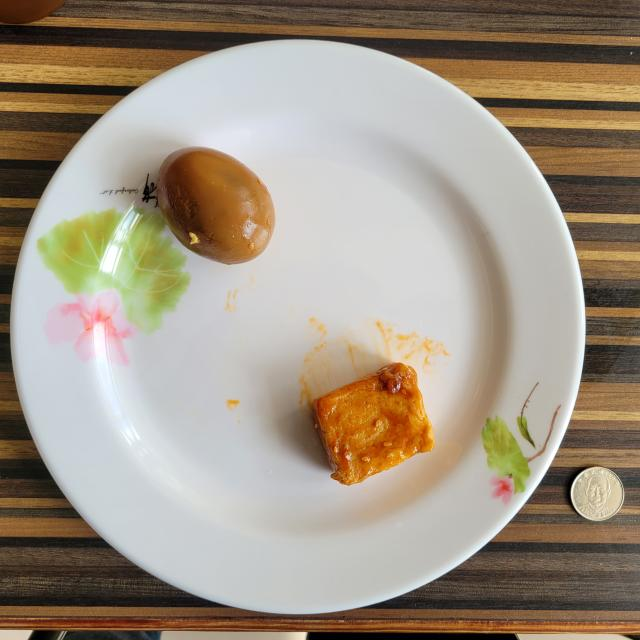coin: (570, 466, 624, 521)
creamy tofu: (312, 362, 435, 485)
soy egg: (156, 146, 275, 264)
